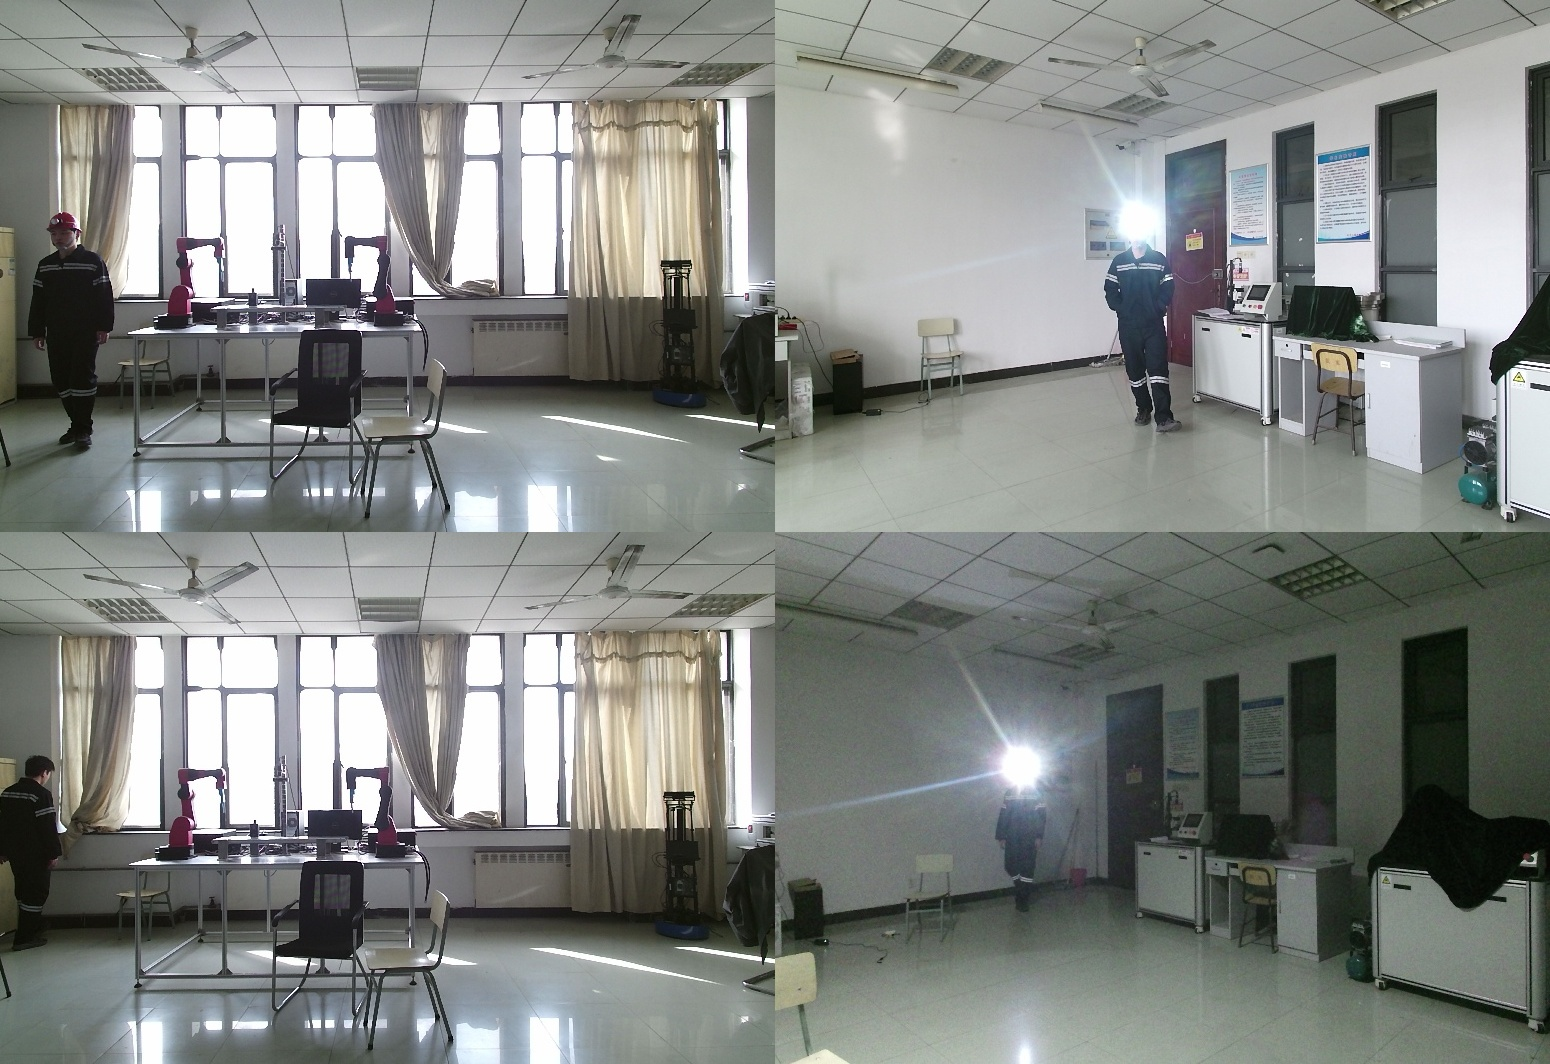person: (28, 215, 126, 447), (1107, 225, 1181, 436), (1, 756, 68, 949), (995, 762, 1050, 915)
